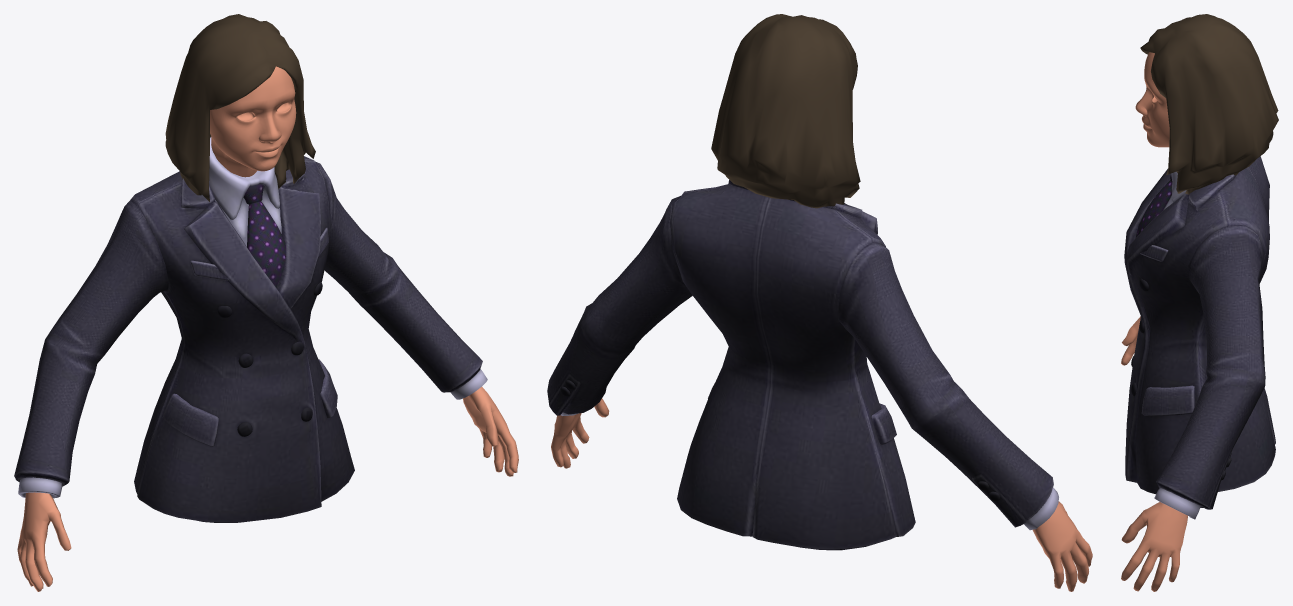
3 renders of one model, left to right at view 1: azimuth 30°, elevation 25°; view 2: azimuth 150°, elevation 25°; view 3: azimuth 270°, elevation 25°, orthographic. The views are drawn at different scales.
Visible parts, largest first — view 1: Wolf3D_Outfit_Top.001, Wolf3D_Hair, Wolf3D_Head, Wolf3D_Body.001; view 2: Wolf3D_Outfit_Top.001, Wolf3D_Hair, Wolf3D_Body.001; view 3: Wolf3D_Outfit_Top.001, Wolf3D_Hair, Wolf3D_Body.001, Wolf3D_Head.
Part boxes in pixels (left/top/right/bottom): Wolf3D_Outfit_Top.001: left=14, top=137, right=487, bottom=522; Wolf3D_Hair: left=165, top=14, right=315, bottom=201; Wolf3D_Head: left=210, top=66, right=296, bottom=177; Wolf3D_Body.001: left=17, top=387, right=518, bottom=591; Wolf3D_Outfit_Top.001: left=547, top=179, right=1058, bottom=550; Wolf3D_Hair: left=711, top=14, right=860, bottom=208; Wolf3D_Body.001: left=551, top=398, right=1092, bottom=591; Wolf3D_Outfit_Top.001: left=1124, top=156, right=1275, bottom=519; Wolf3D_Hair: left=1140, top=14, right=1278, bottom=194; Wolf3D_Body.001: left=1121, top=316, right=1187, bottom=591; Wolf3D_Head: left=1135, top=52, right=1169, bottom=147.
Bounding box in the file's own units: 9.48 × 9.13 × 2.82.
Materials: 3 (2 with a texture image).
